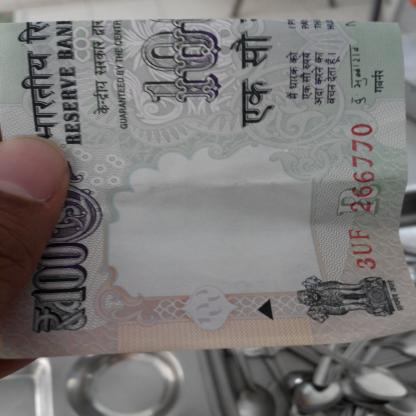Old100Front: (0, 17, 416, 358)
